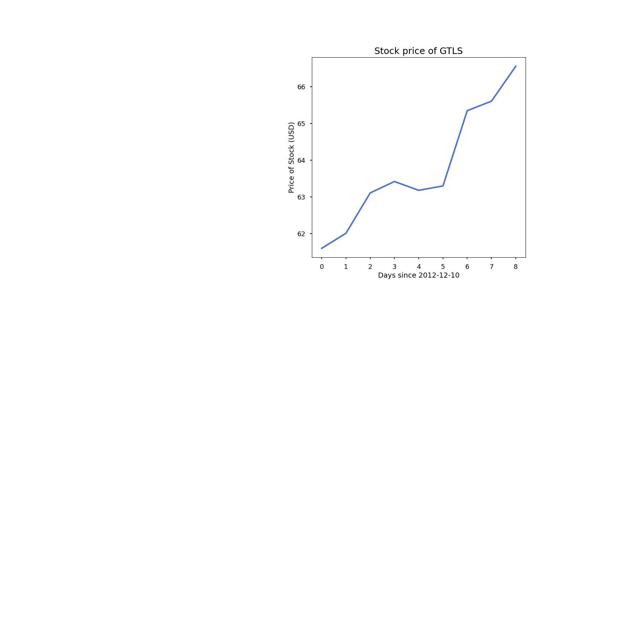Graph: (225, 26, 603, 286)
